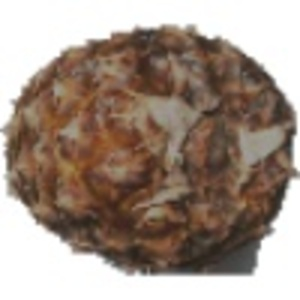abacaxi: (4, 15, 294, 269)
